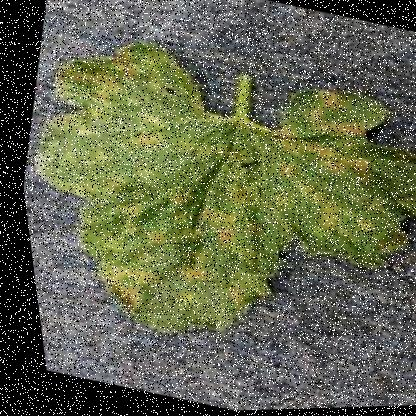DownyMildew: (164, 74, 415, 276), (71, 138, 310, 338), (22, 25, 216, 219)
